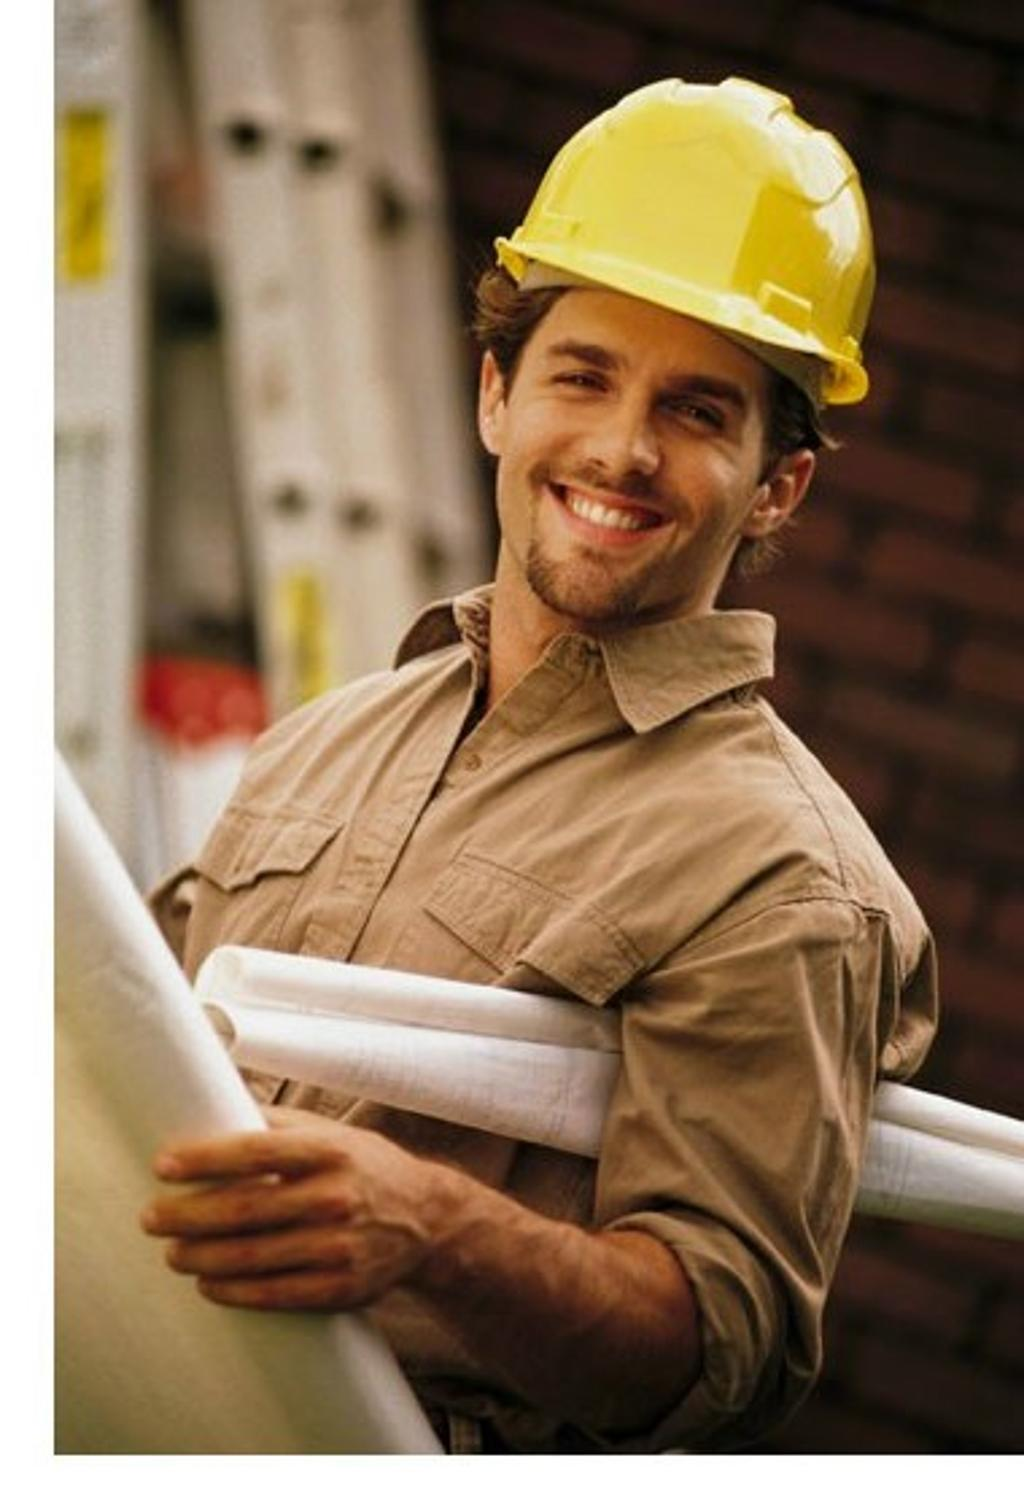face: (514, 264, 735, 592)
